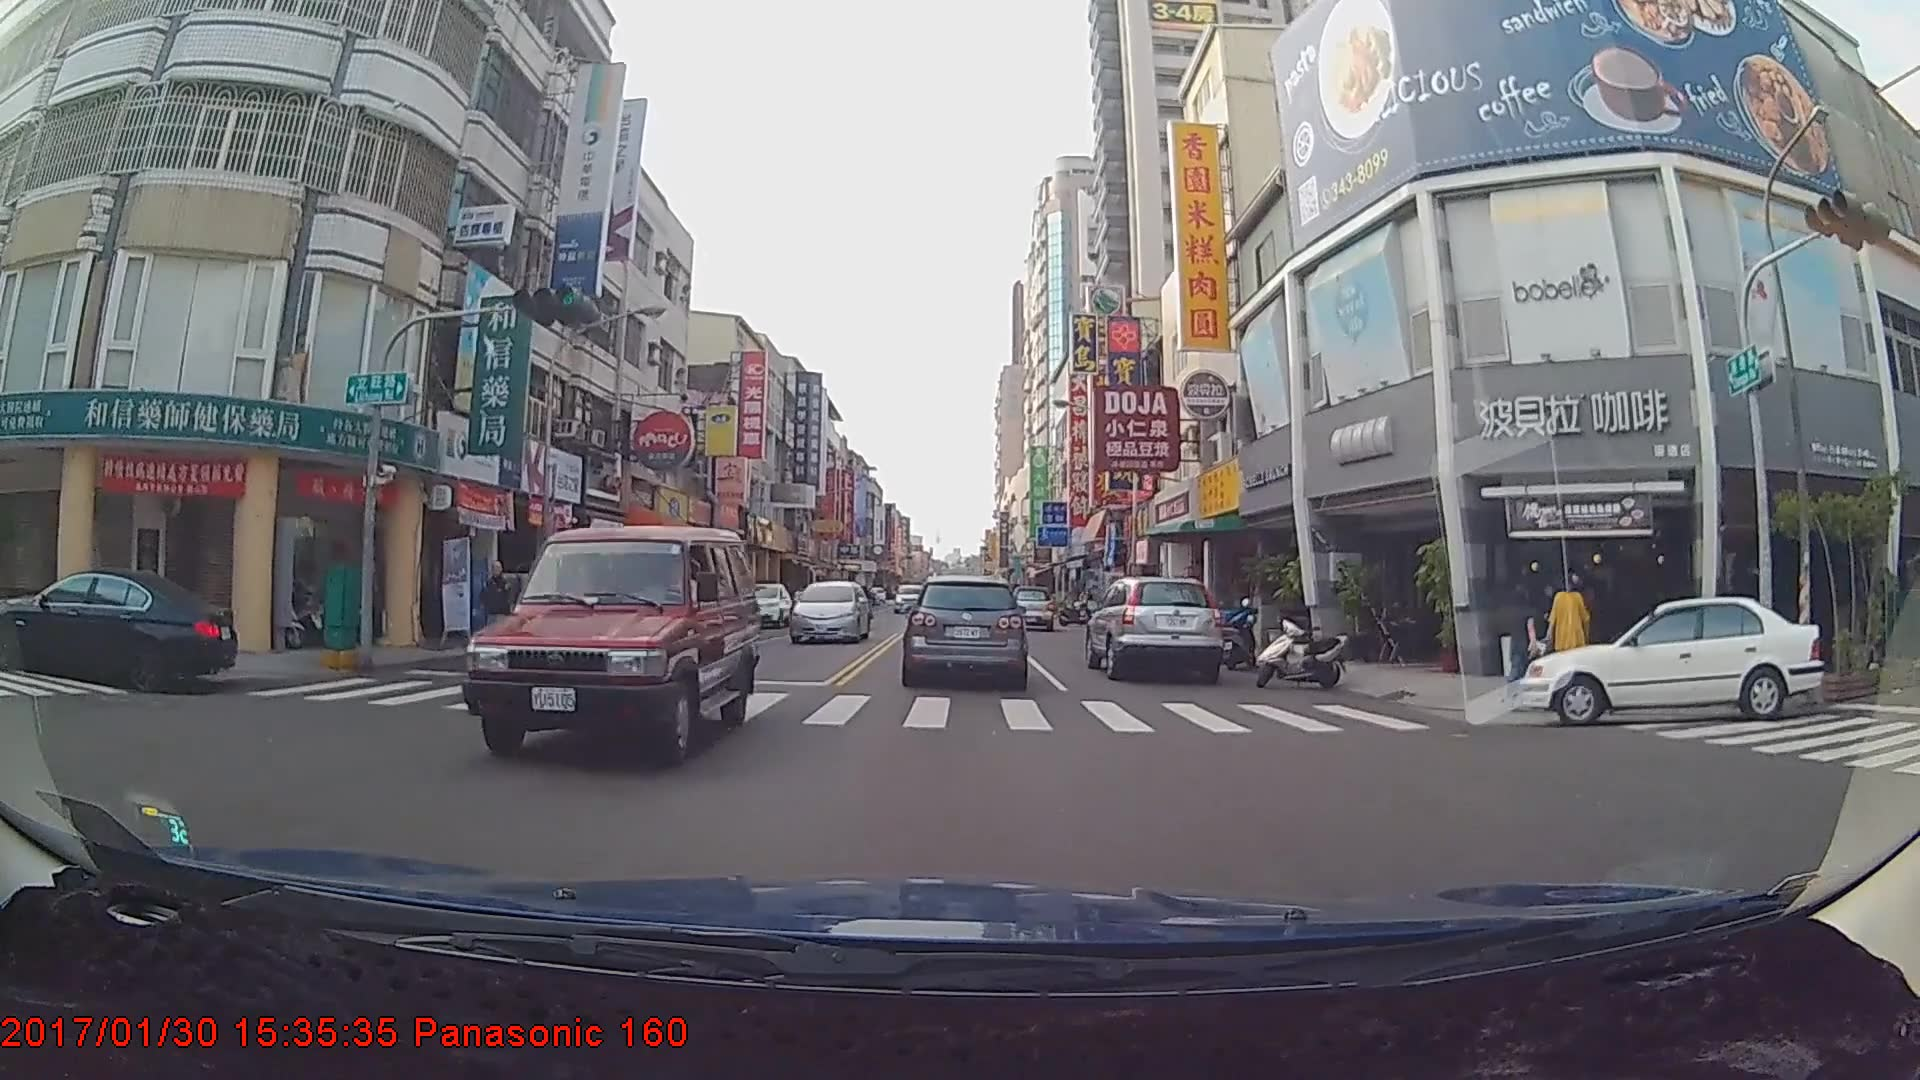pedestrian: (1547, 570, 1592, 679), (1504, 586, 1543, 693)
vehicle: (454, 523, 761, 768), (1515, 594, 1825, 730), (0, 566, 236, 693), (1085, 575, 1225, 683), (904, 574, 1023, 685), (788, 578, 872, 645), (733, 581, 792, 629), (1007, 587, 1054, 632), (893, 583, 928, 614)
